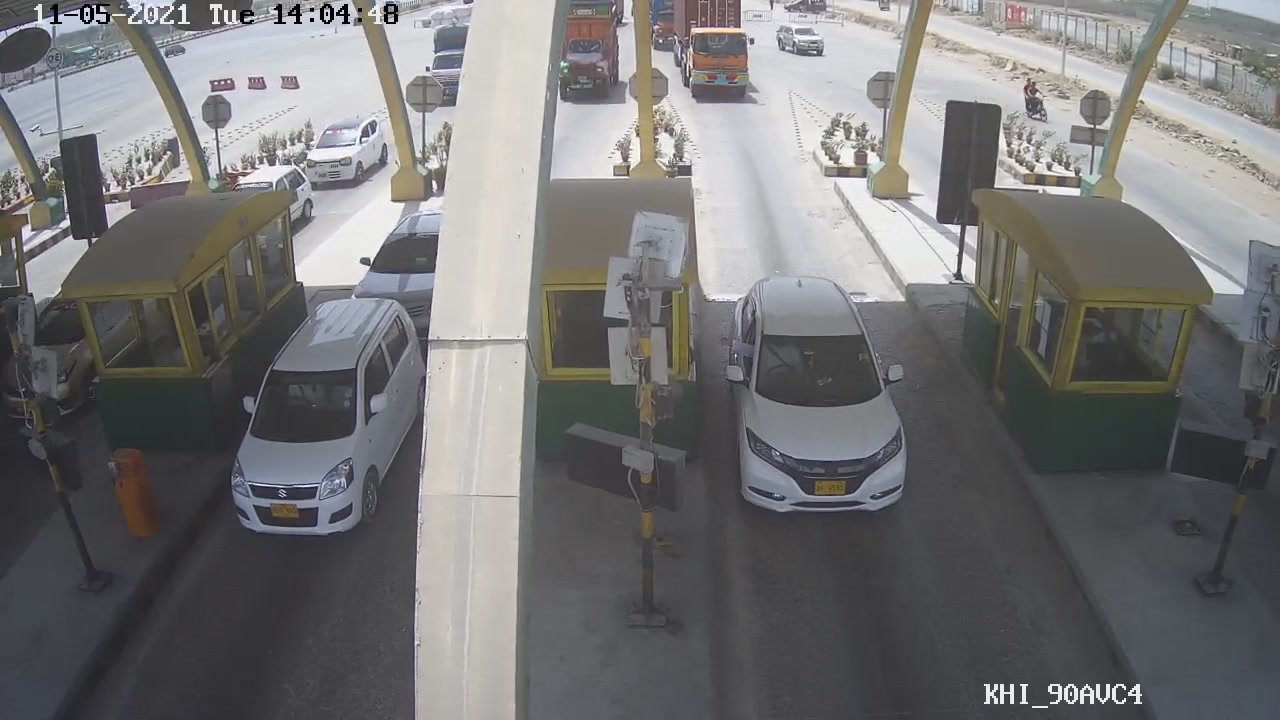F1: (728, 268, 909, 517)
